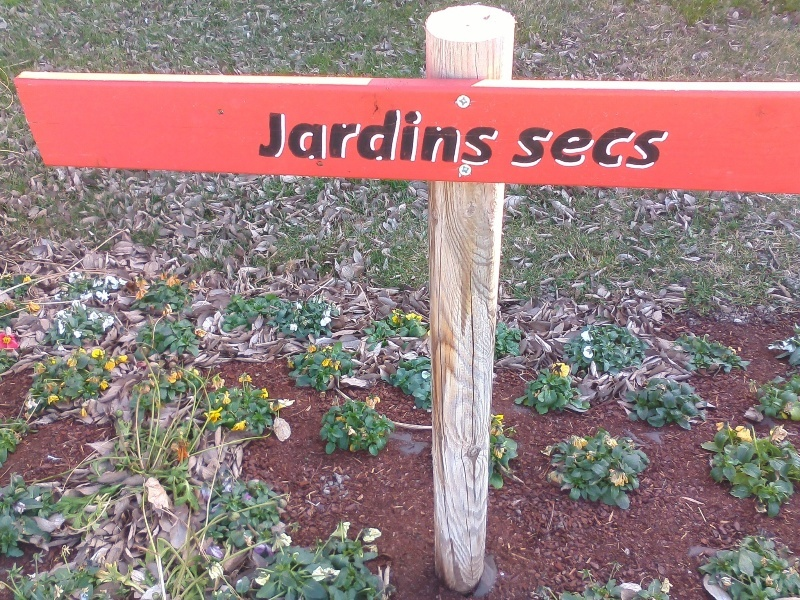text: (273, 103, 288, 168), (289, 103, 304, 168), (305, 103, 320, 168), (321, 103, 336, 168), (337, 103, 352, 168), (353, 103, 368, 168), (369, 103, 384, 168), (385, 103, 400, 168), (401, 103, 416, 168), (417, 103, 432, 168), (433, 103, 448, 168), (449, 103, 464, 168), (465, 103, 480, 168), (481, 103, 496, 168), (529, 124, 544, 170), (545, 124, 560, 170), (561, 124, 576, 170), (577, 124, 592, 170), (593, 124, 608, 170), (609, 124, 624, 170), (625, 124, 640, 170), (641, 124, 656, 170), (657, 124, 672, 170), (262, 103, 272, 168), (518, 124, 528, 170), (497, 103, 501, 168)
